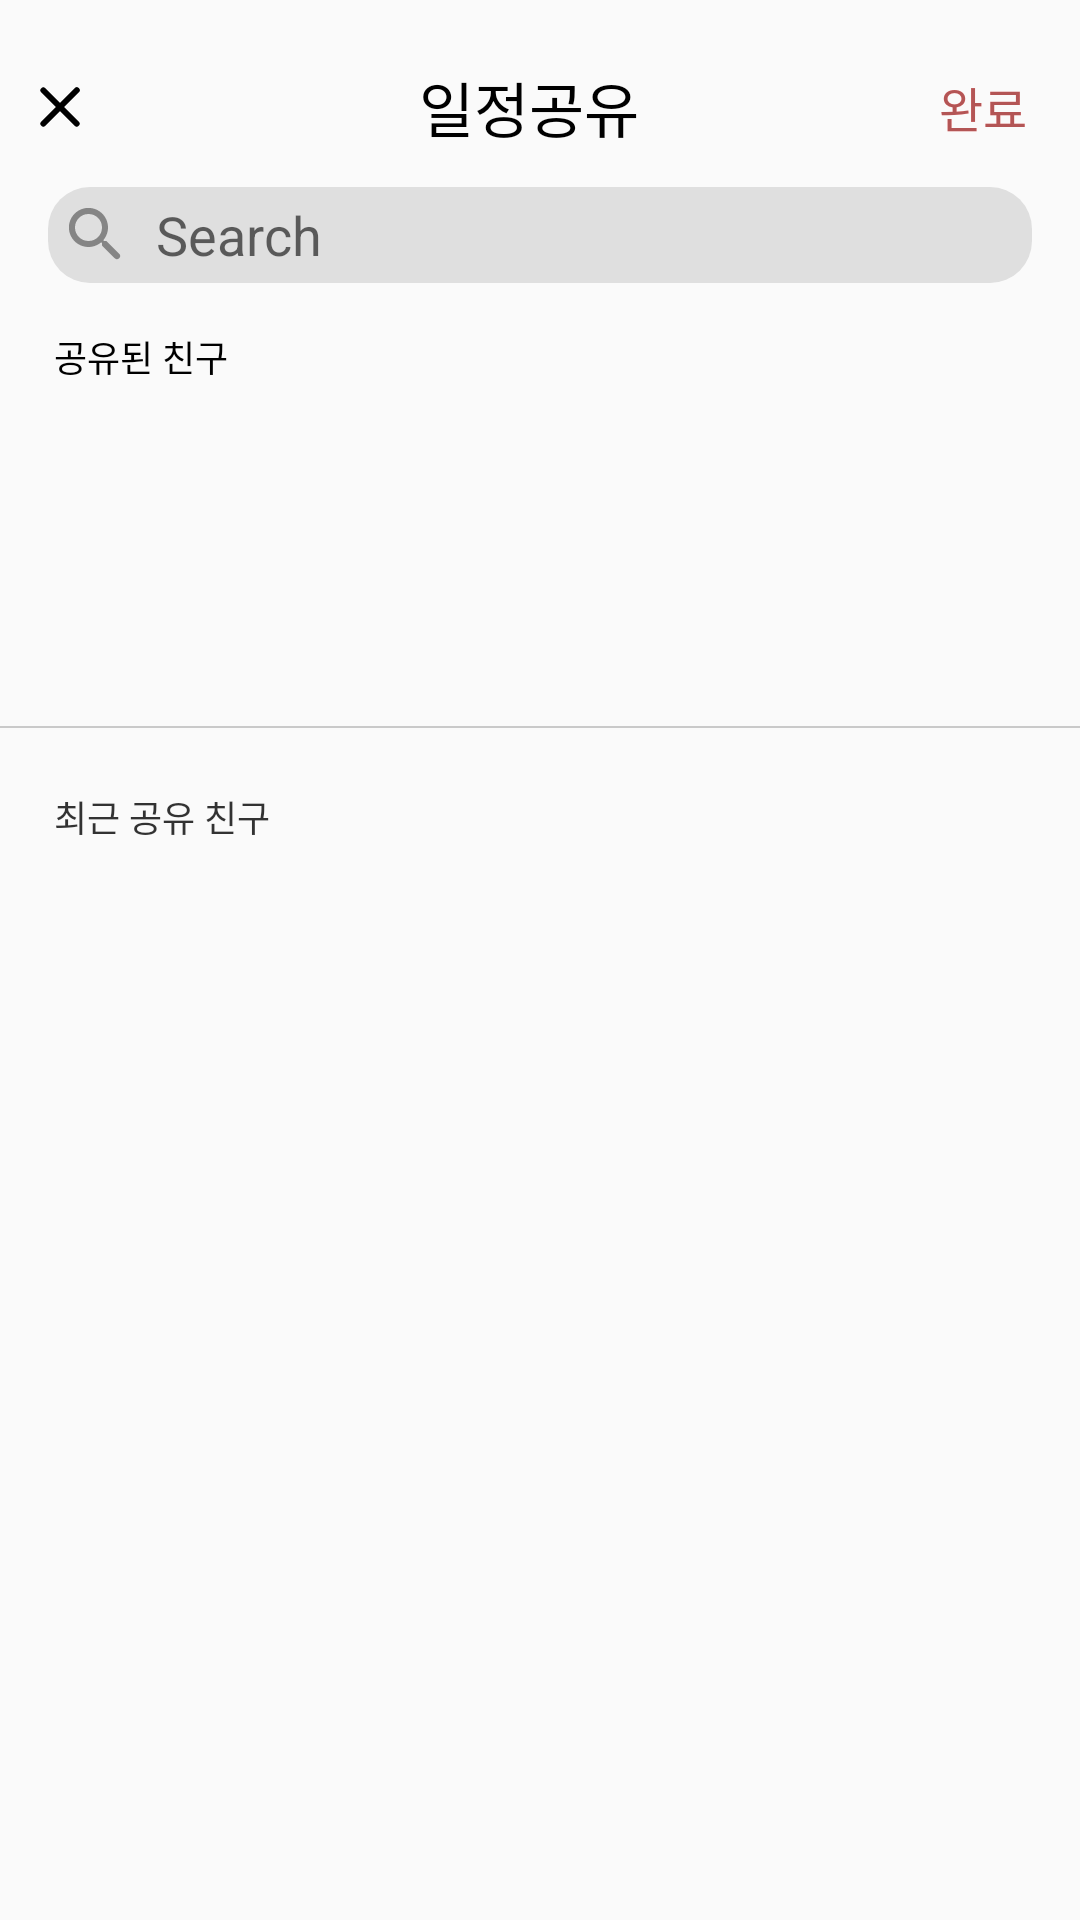

Locate icon controls on the screen. Image size 1080px x 1920px, boxes as (x1, y1, x2, y2).
close: (40, 87, 80, 127)
